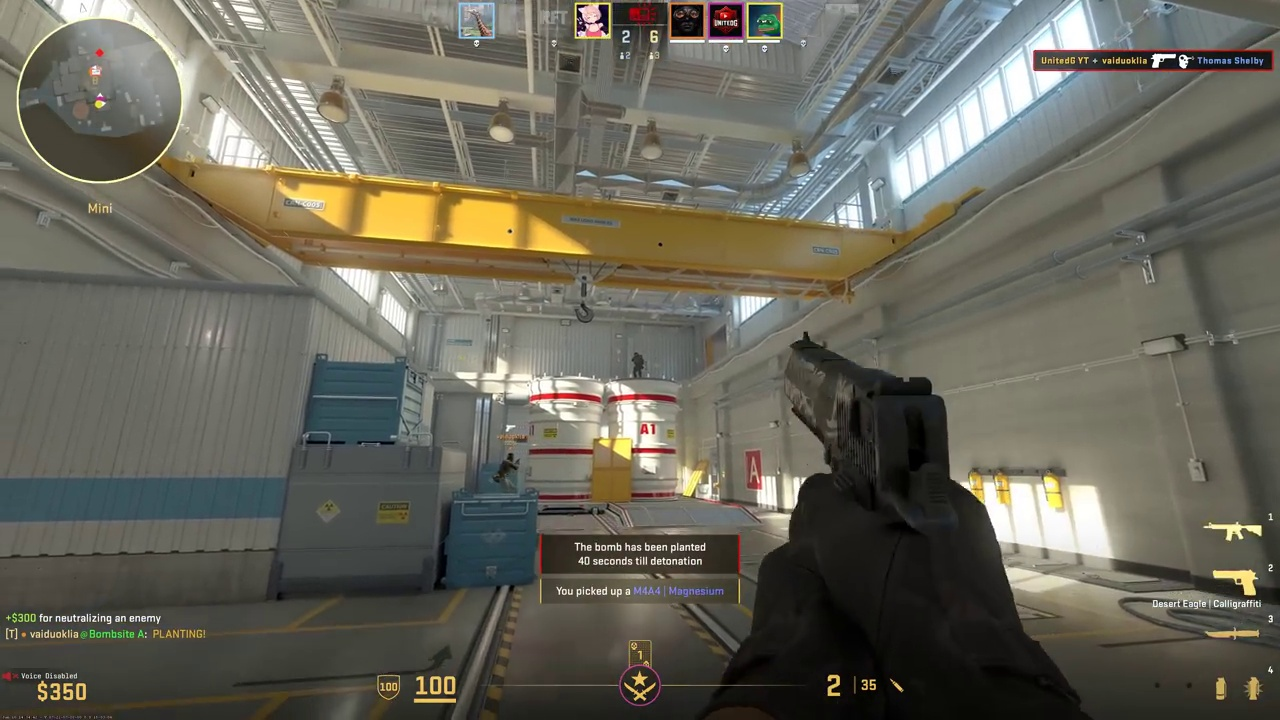CT: (632, 352, 644, 378)
Terrorist: (498, 453, 519, 492)
